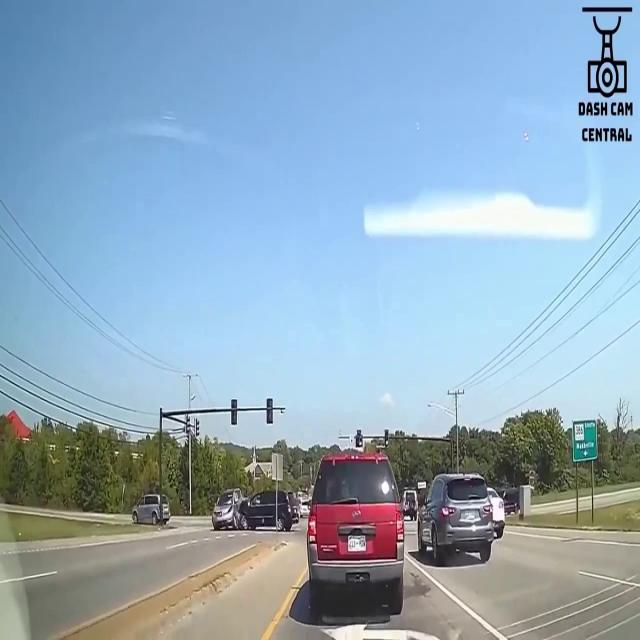accident: (212, 487, 301, 532)
